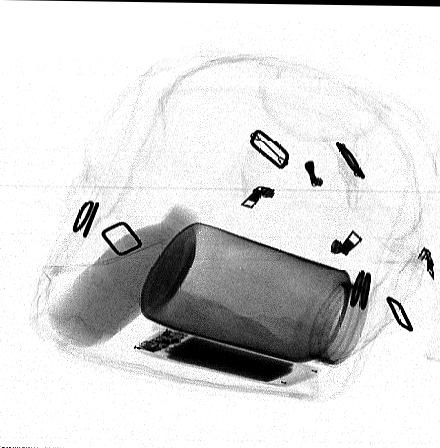Powerbank: (130, 324, 320, 388)
